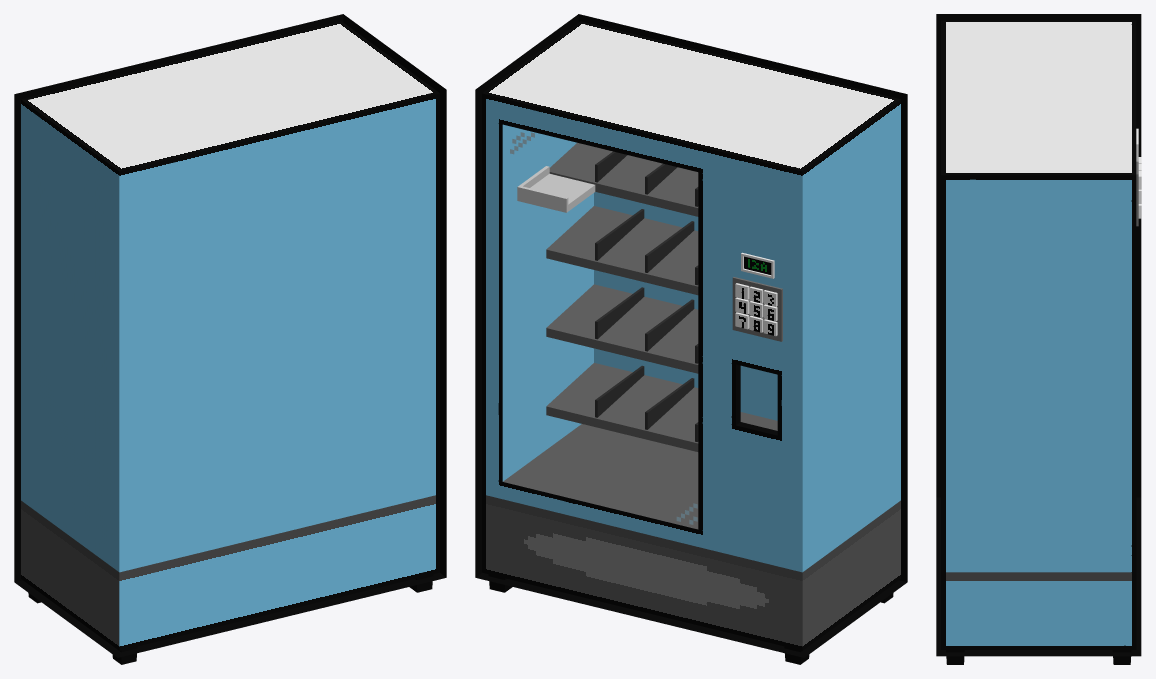
File: vending_machine.glb
The picture shows the model from 3 angles, left to right: view 1: azimuth 30°, elevation 25°; view 2: azimuth 150°, elevation 25°; view 3: azimuth 270°, elevation 25°; orthographic projection.
Visible parts, largest first — view 1: cube_0, cube_outline_2; view 2: cube_0, cube_1, cube_outline_2, cube_19, cube_20, cube_4; view 3: cube_0, cube_outline_2.
Boxes of the visible parts, x1,y1,x2,y2 form: cube_0: (21,21,439,664); cube_outline_2: (14,14,446,657); cube_0: (482,21,900,664); cube_1: (546,143,698,451); cube_outline_2: (475,14,907,657); cube_19: (595,151,698,441); cube_20: (517,166,595,212); cube_4: (732,277,782,341); cube_0: (941,20,1136,664); cube_outline_2: (936,14,1141,656).
Bounding box in the file's own units: 2.47 × 3.59 × 1.35.
Materials: 18 (17 with a texture image).
